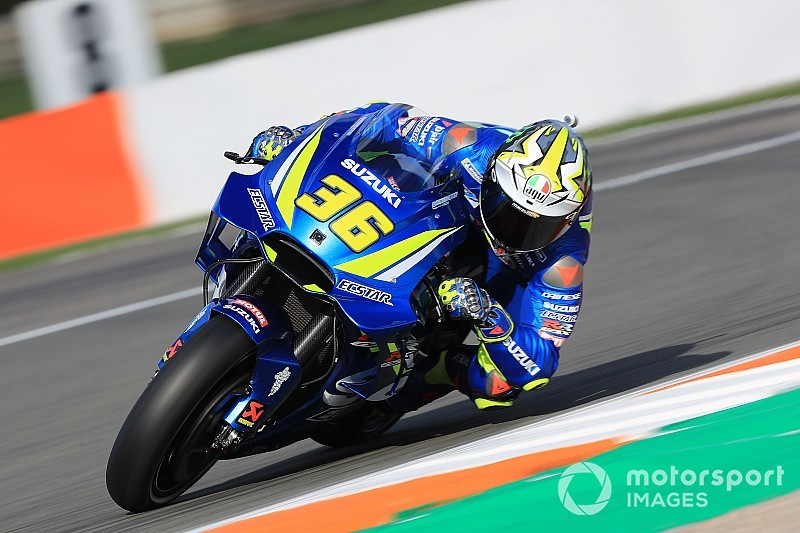helmet: (469, 106, 592, 264)
